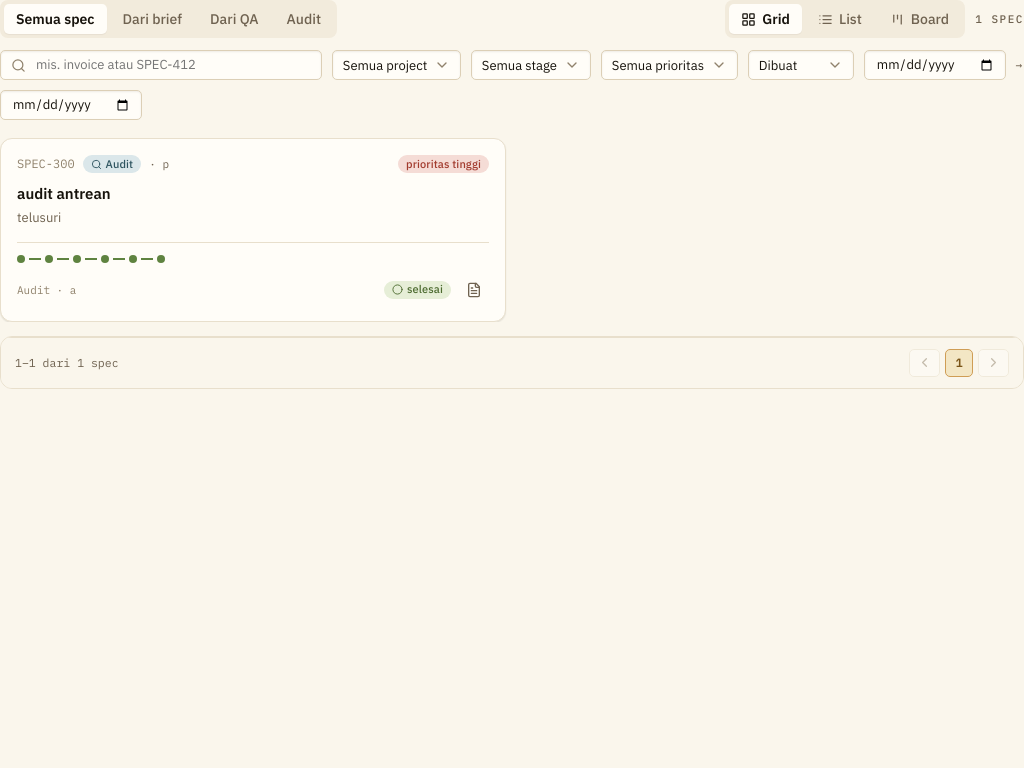
Test: SpecDetail eskalasi audit (SPEC-340) › menampilkan tiga tombol eskalasi untuk source audit
Click the button "audit antrean".
click(64, 194)  # box left=17, top=184, right=111, bottom=203
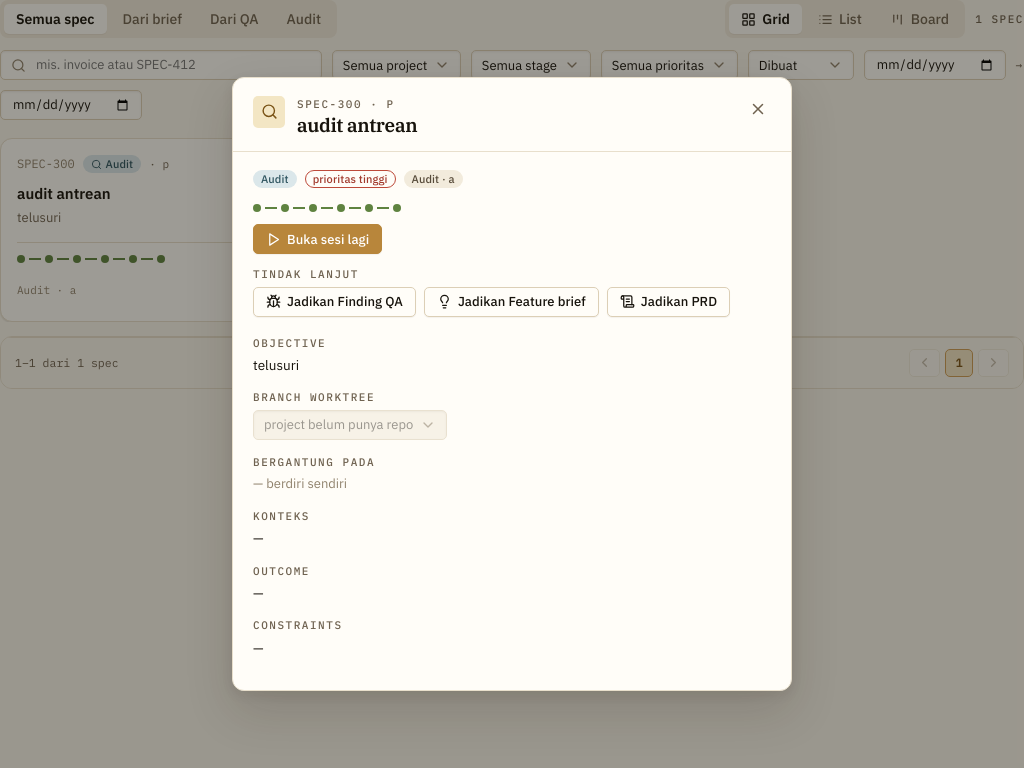
Check: the button "Jadikan Finding QA" is shown, box left=253, top=287, right=416, bottom=317
Check: the button "Jadikan Feature brief" is shown, box left=424, top=287, right=599, bottom=317
Check: the button "Jadikan PRD" is shown, box left=607, top=287, right=730, bottom=317
